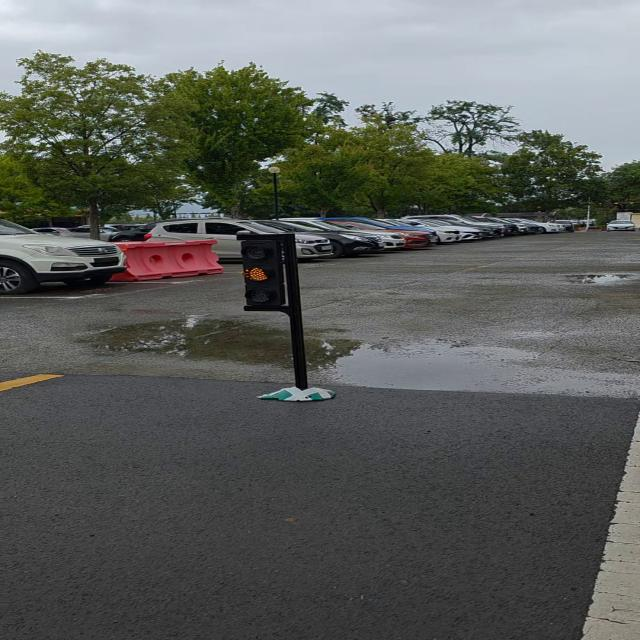yellow: (242, 228, 300, 310)
